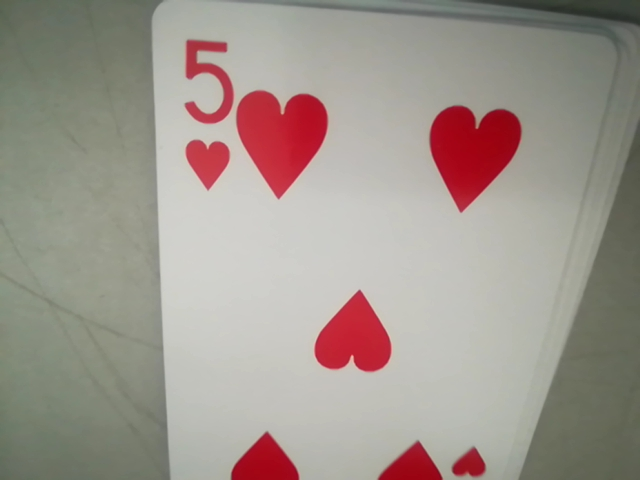hx 5: (175, 39, 234, 191)
